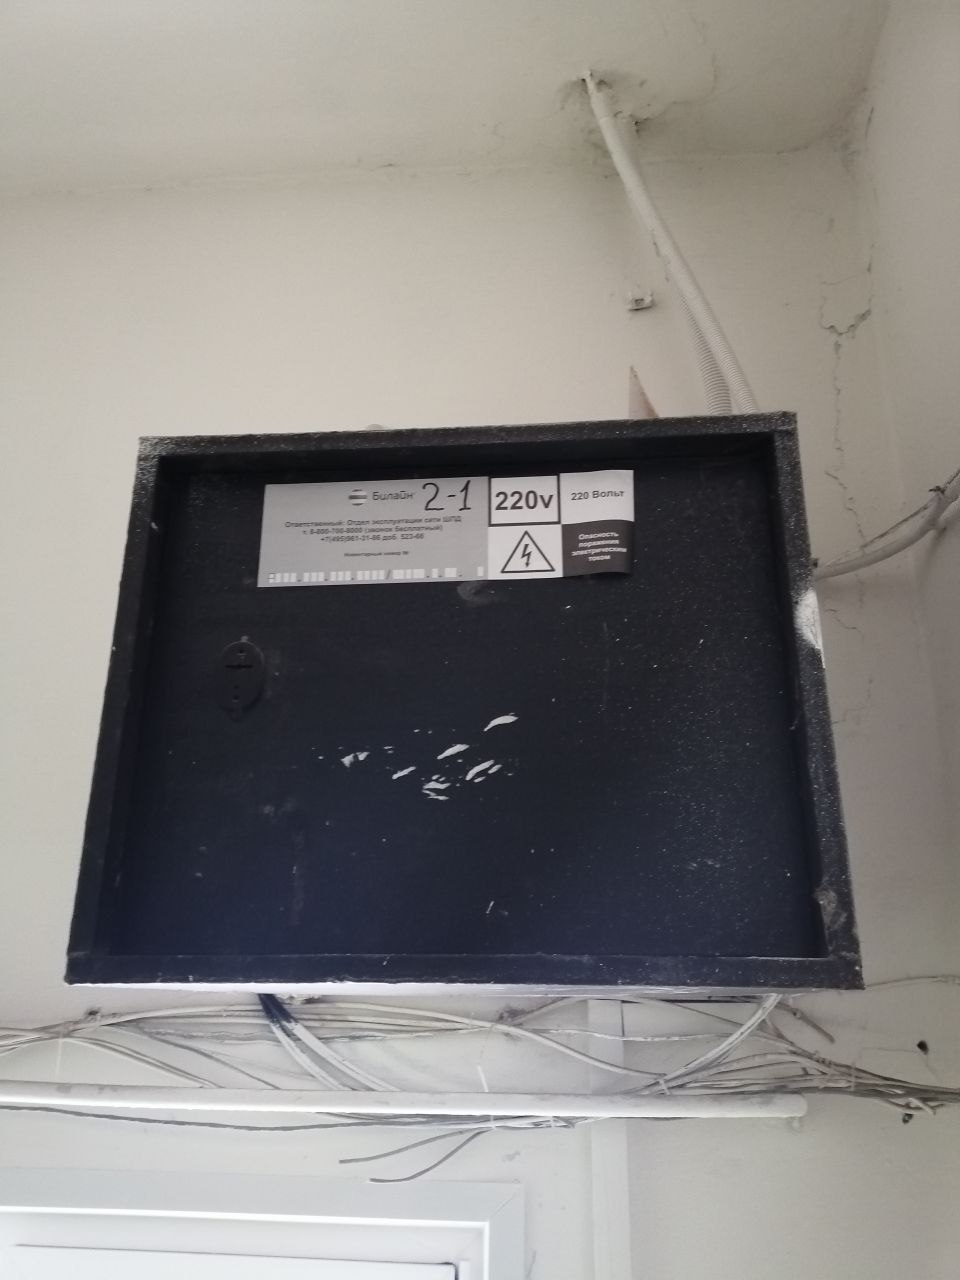shta-9m: (40, 399, 881, 1009)
